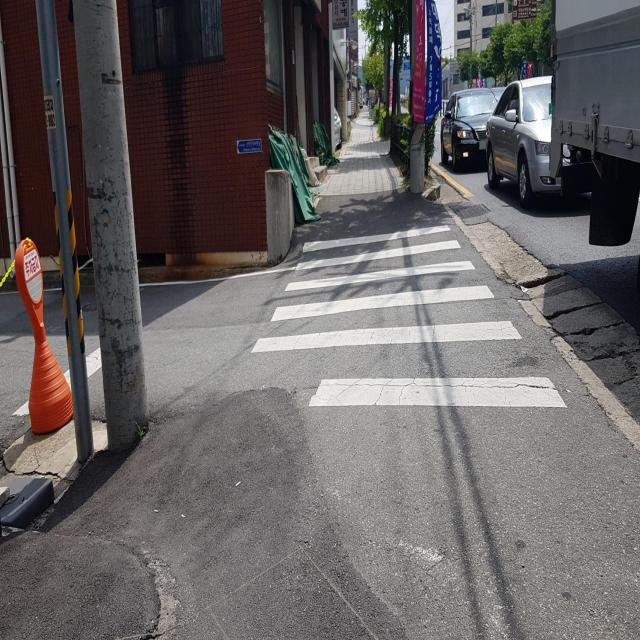횡단보도: (251, 223, 568, 410)
